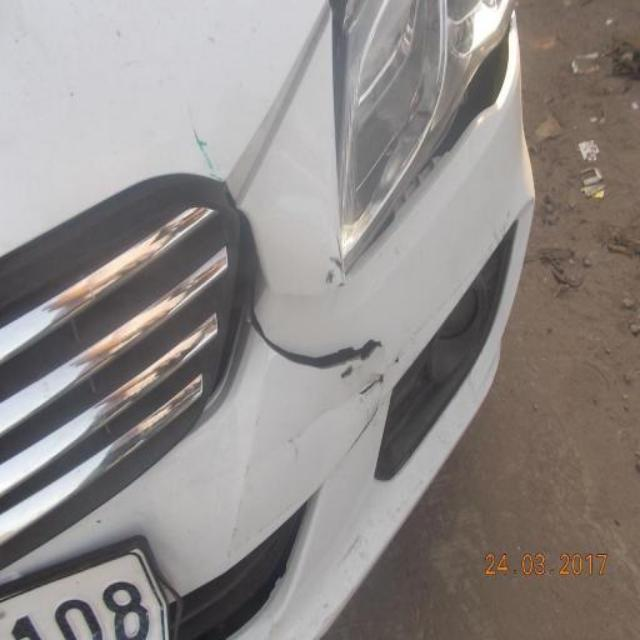crack: (338, 9, 514, 286), (244, 301, 388, 401)
